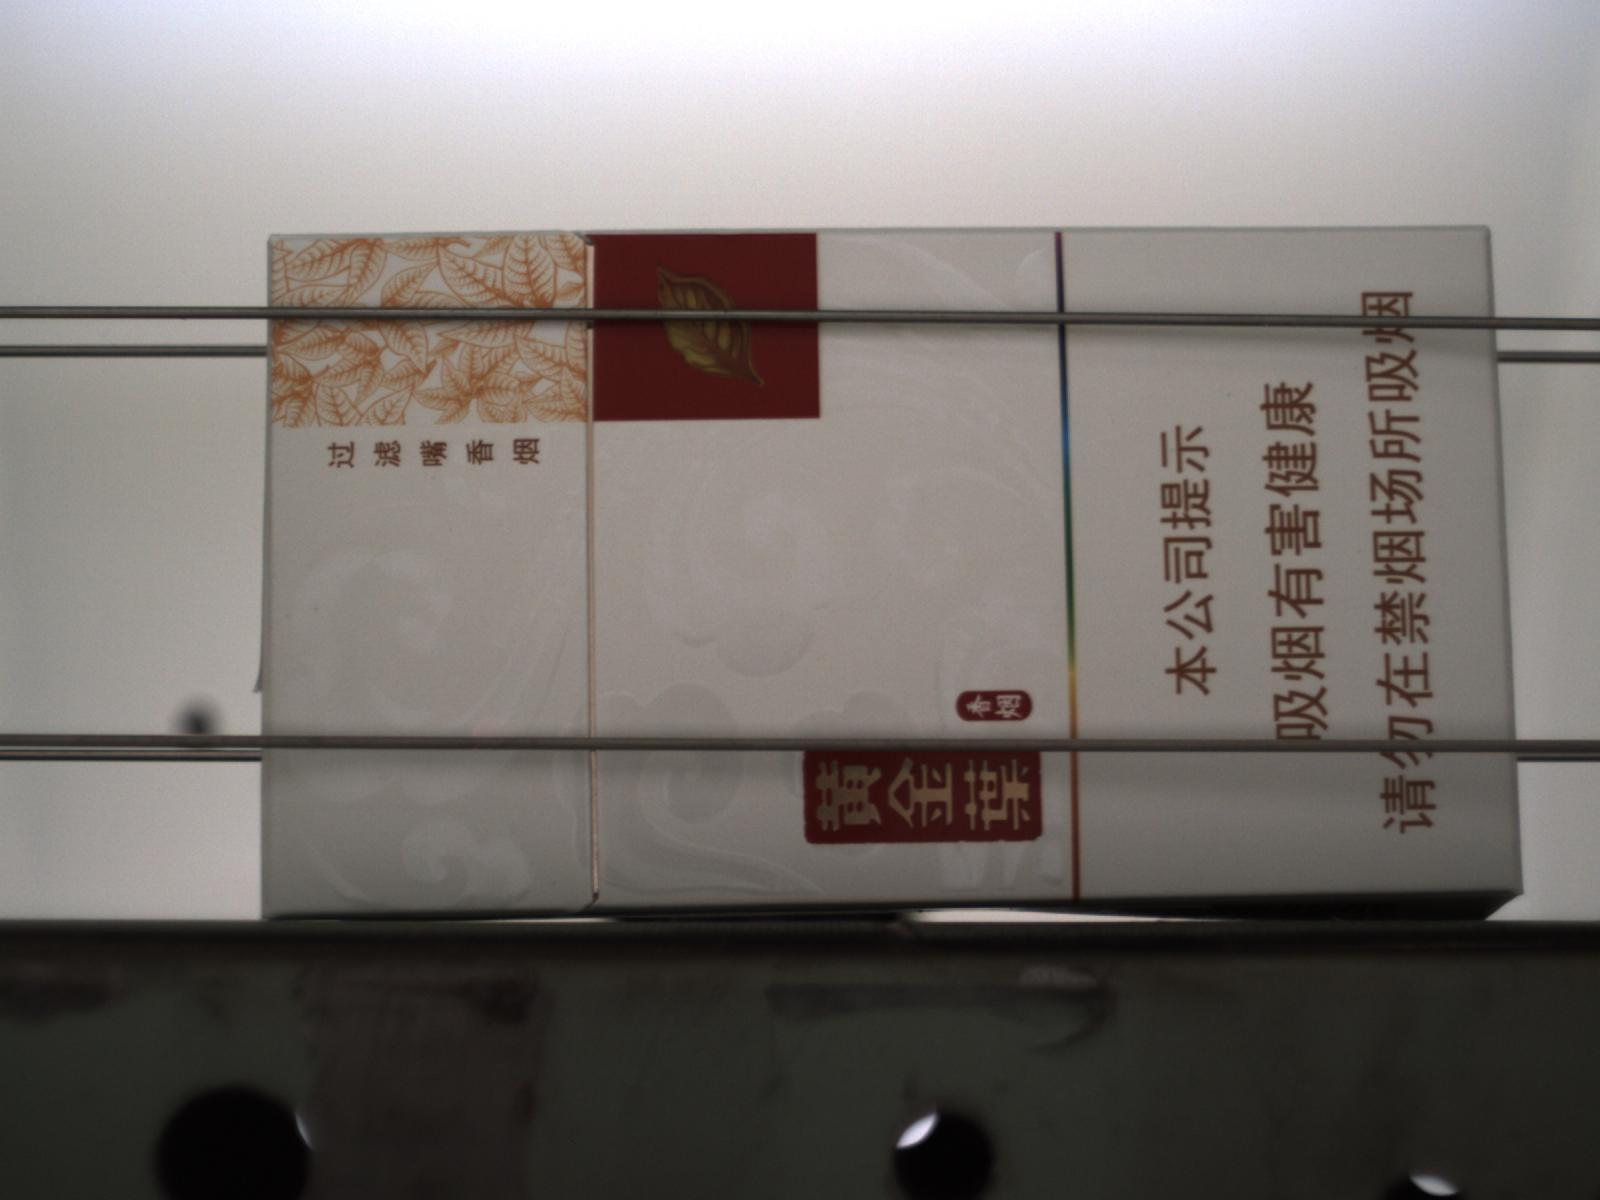boxDamage_front: (616, 882, 1528, 924)
dirtySpot: (1225, 391, 1233, 398)
